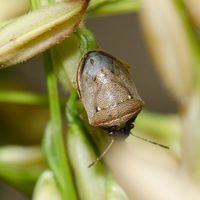insect: (76, 50, 143, 138)
